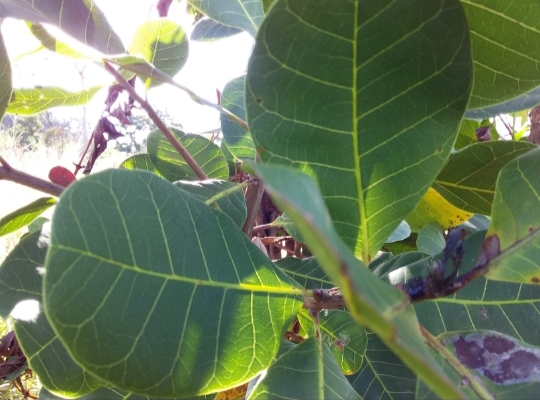Dessèchement des bourgeons: (408, 234, 502, 299)
